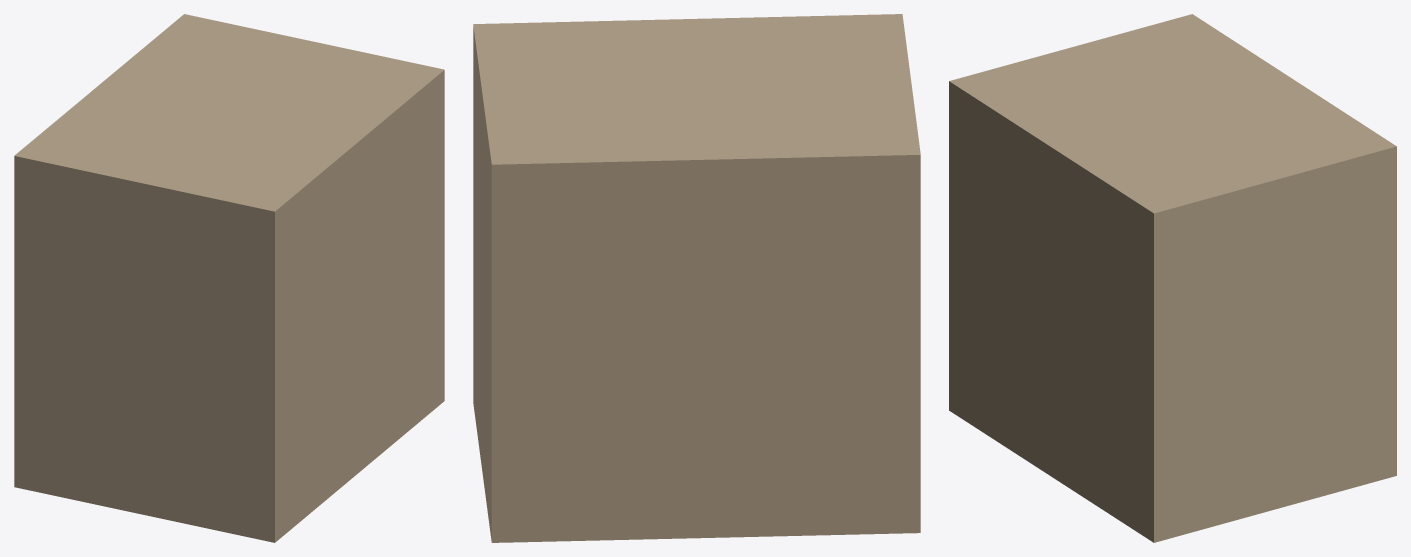
The model's file is bld_163484387.dae.
The picture shows the model from 3 angles, left to right: view 1: azimuth 30°, elevation 25°; view 2: azimuth 150°, elevation 25°; view 3: azimuth 270°, elevation 25°; orthographic projection. The views are drawn at different scales.
Parts seen in each view (by area): view 1: bld_163484387; view 2: bld_163484387; view 3: bld_163484387.
Part boxes in pixels (x1=…): bld_163484387: x1=14, y1=14, x2=444, y2=542; bld_163484387: x1=473, y1=14, x2=920, y2=542; bld_163484387: x1=949, y1=14, x2=1396, y2=542.
Bounding box in the file's own units: 10.39 × 9.86 × 8.
